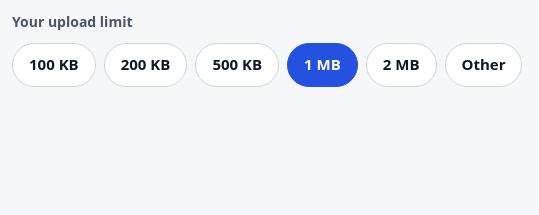
Test case: LimitChips › shows no custom box until Other is chosen
Step 1. Click the button "Other" → (484, 65), box [444,43,522,87]
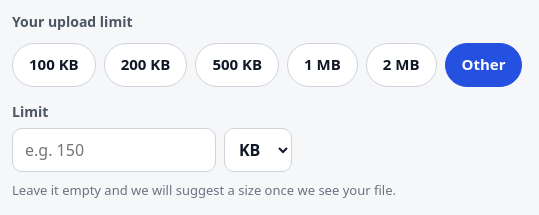
Expected: the field labelled "Limit" is shown, [12,128,216,172]
